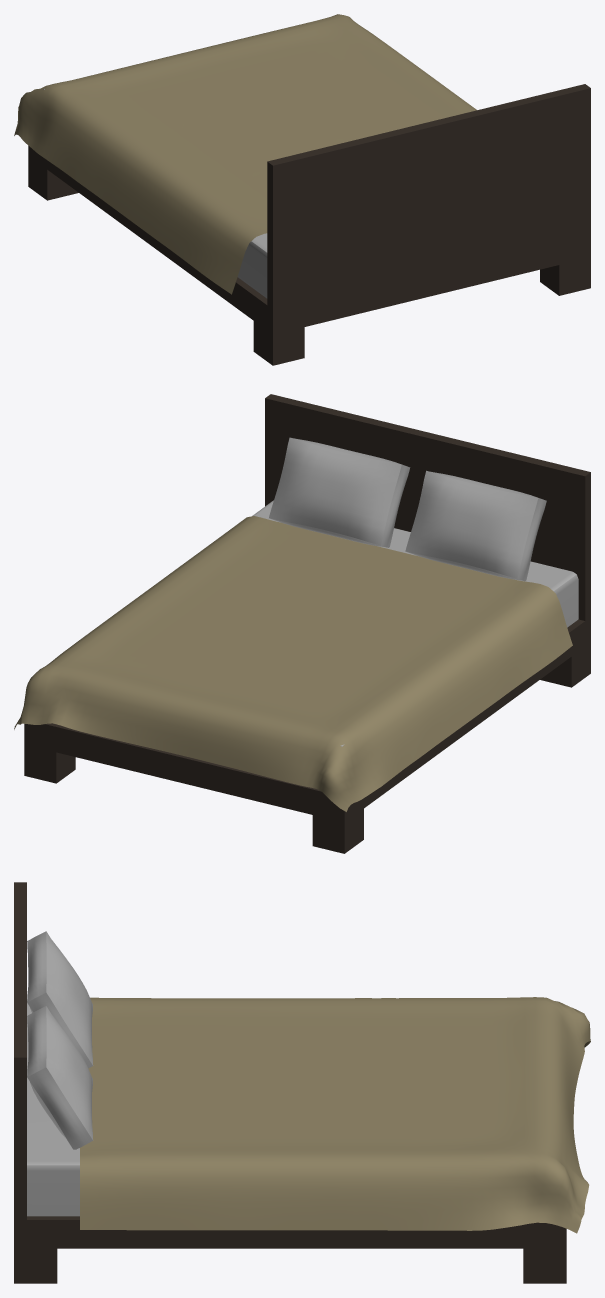
The model's file is OrganizedBed.fbx.
The picture shows the model from 3 angles, top to bottom: view 1: azimuth 30°, elevation 25°; view 2: azimuth 150°, elevation 25°; view 3: azimuth 270°, elevation 25°; orthographic projection. The views are drawn at different scales.
Parts seen in each view (by area): view 1: OrganizedBed1; view 2: OrganizedBed1; view 3: OrganizedBed1.
Boxes of the visible parts, box(x1,y1,x2,y2) form: OrganizedBed1: box(14, 14, 590, 365); OrganizedBed1: box(14, 394, 590, 853); OrganizedBed1: box(14, 882, 590, 1283).
Bounding box in the file's own units: 1.71 × 0.9415 × 2.18.
